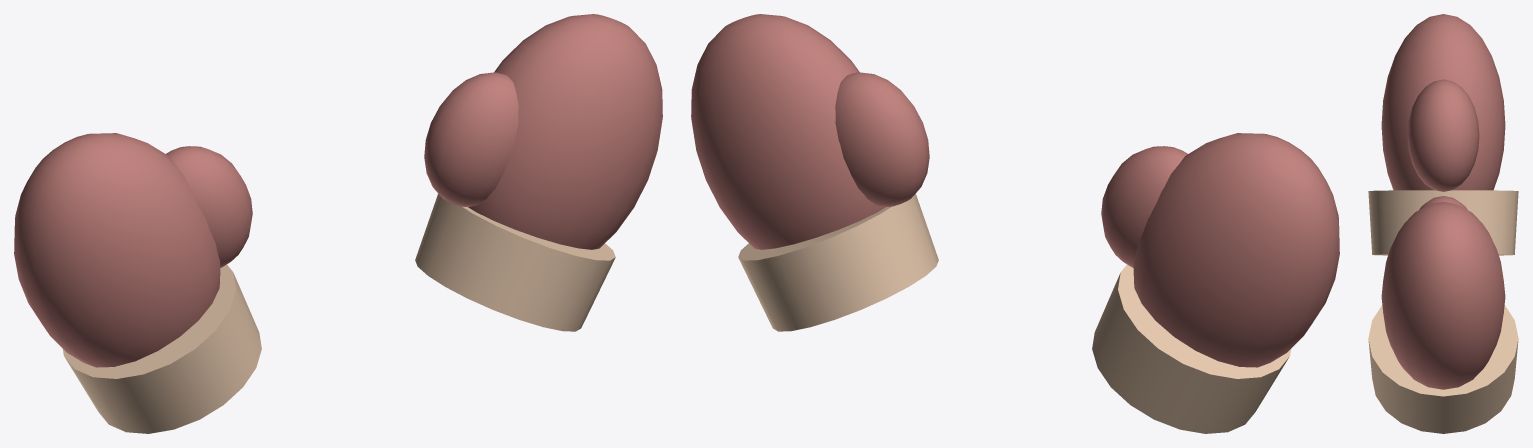
Rendered from 温暖手套.glb.
3 views of the same model, side by side, from view 1: azimuth 30°, elevation 25°; view 2: azimuth 150°, elevation 25°; view 3: azimuth 270°, elevation 25° (orthographic). The views are drawn at different scales.
Parts seen in each view (by area): view 1: WinterMittens; view 2: WinterMittens; view 3: WinterMittens.
Part boxes in pixels (x1=…): WinterMittens: x1=14, y1=14, x2=662, y2=433; WinterMittens: x1=691, y1=14, x2=1339, y2=433; WinterMittens: x1=1368, y1=14, x2=1518, y2=433.
Size of the model in its own units: 0.7754 by 0.3379 by 0.2.
